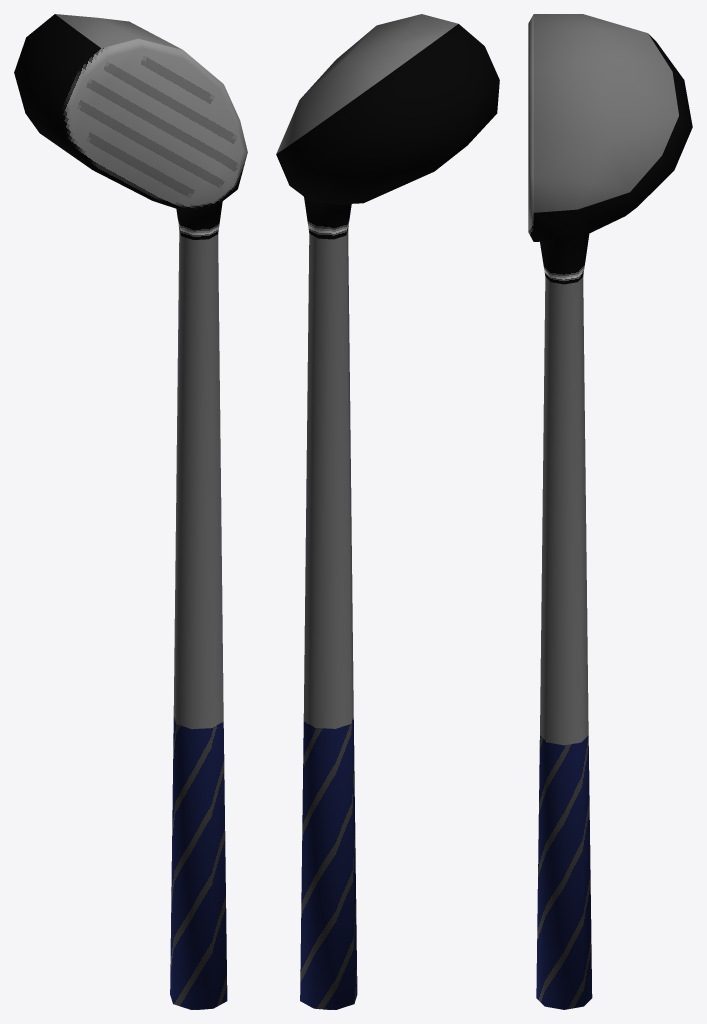
File: glf_culb_L__glf_club_WD_L.glb
3 views of the same model, side by side, from view 1: azimuth 30°, elevation 25°; view 2: azimuth 150°, elevation 25°; view 3: azimuth 270°, elevation 25° (orthographic). The views are drawn at different scales.
Parts seen in each view (by area): view 1: polygon0, polygon1; view 2: polygon0, polygon1; view 3: polygon0, polygon1.
Part boxes in pixels (<box>): polygon0: <box>14,14,247,729</box>; polygon1: <box>170,716,227,1009</box>; polygon0: <box>276,14,499,728</box>; polygon1: <box>300,717,357,1009</box>; polygon0: <box>528,14,692,745</box>; polygon1: <box>536,735,592,1009</box>.
Size of the model in its own units: 1.71 by 8.64 by 1.37.
2 materials, 2 textured.
